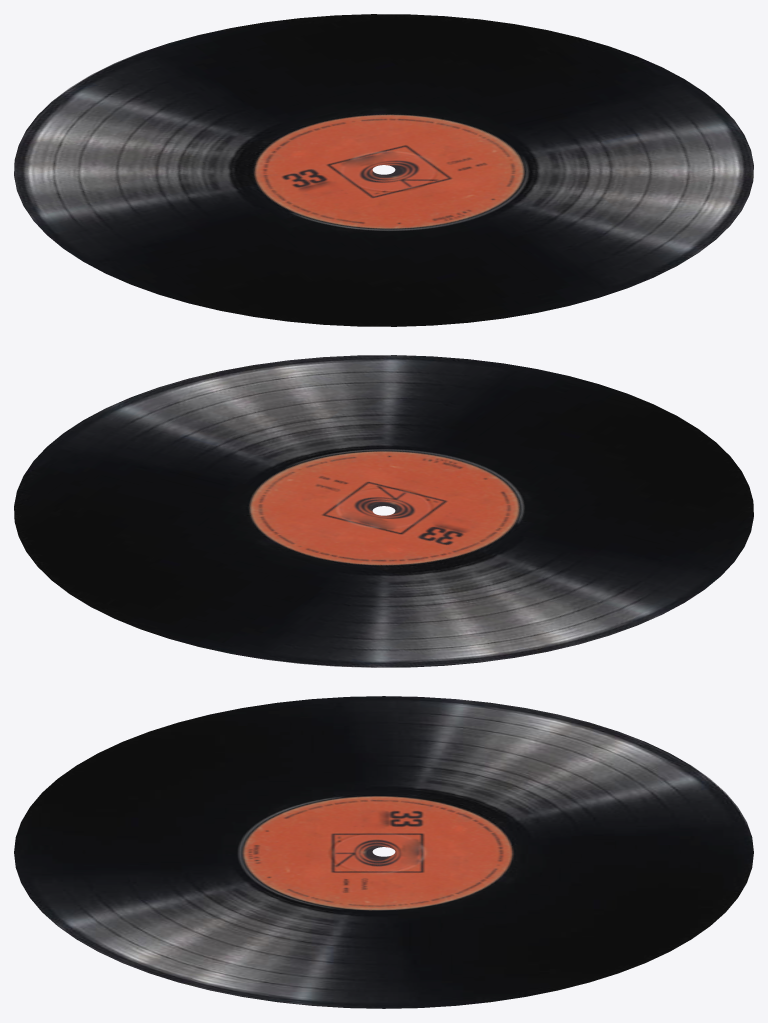
Rendered from Disc.FBX.
3 views of the same model, one above another, from view 1: azimuth 30°, elevation 25°; view 2: azimuth 150°, elevation 25°; view 3: azimuth 270°, elevation 25° (orthographic).
Visible parts, largest first — view 1: disc 2; view 2: disc 2; view 3: disc 2.
Boxes of the visible parts, <box> form: disc 2: <box>14,14,753,326</box>; disc 2: <box>14,355,753,667</box>; disc 2: <box>14,696,753,1008</box>.
Bounding box in the file's own units: 32.81 × 0.0284 × 32.81.
Materials: 1 (1 with a texture image).
